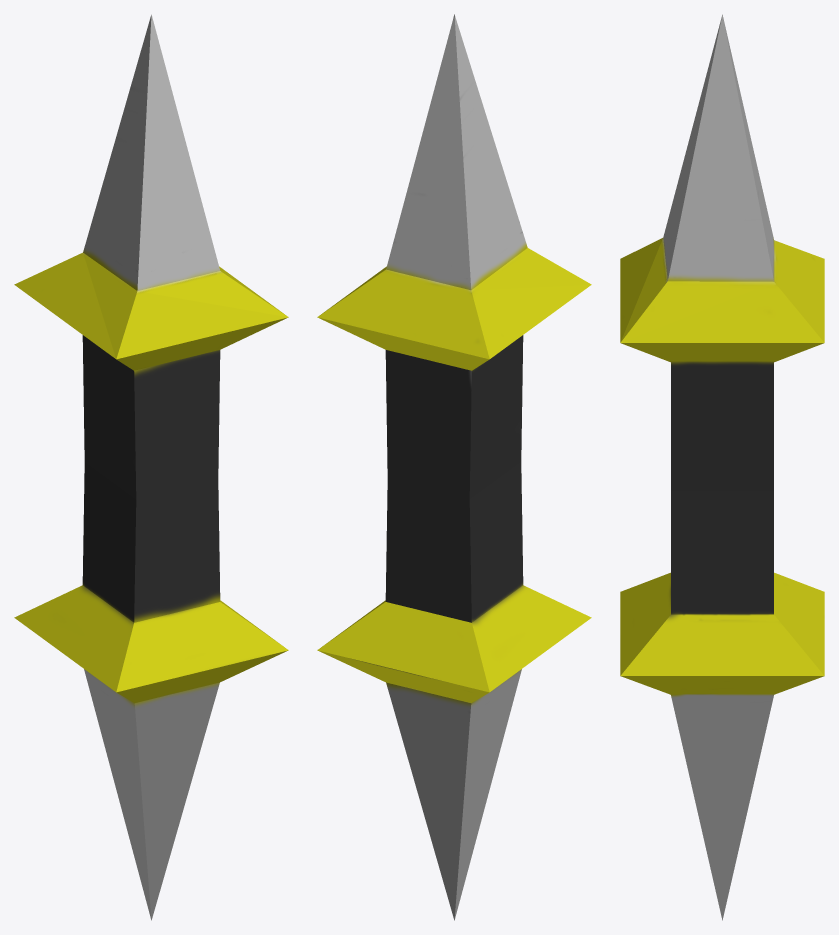
Rendered from EnemyParts.obj.
3 views of the same model, side by side, from view 1: azimuth 30°, elevation 25°; view 2: azimuth 150°, elevation 25°; view 3: azimuth 270°, elevation 25° (orthographic).
Parts seen in each view (by area): view 1: Cube; view 2: Cube; view 3: Cube.
Boxes of the visible parts, x1,y1,x2,y2 form: Cube: [14, 14, 288, 920]; Cube: [317, 14, 591, 920]; Cube: [620, 14, 824, 920].
Bounding box in the file's own units: 0.9927 × 4.98 × 1.02.
